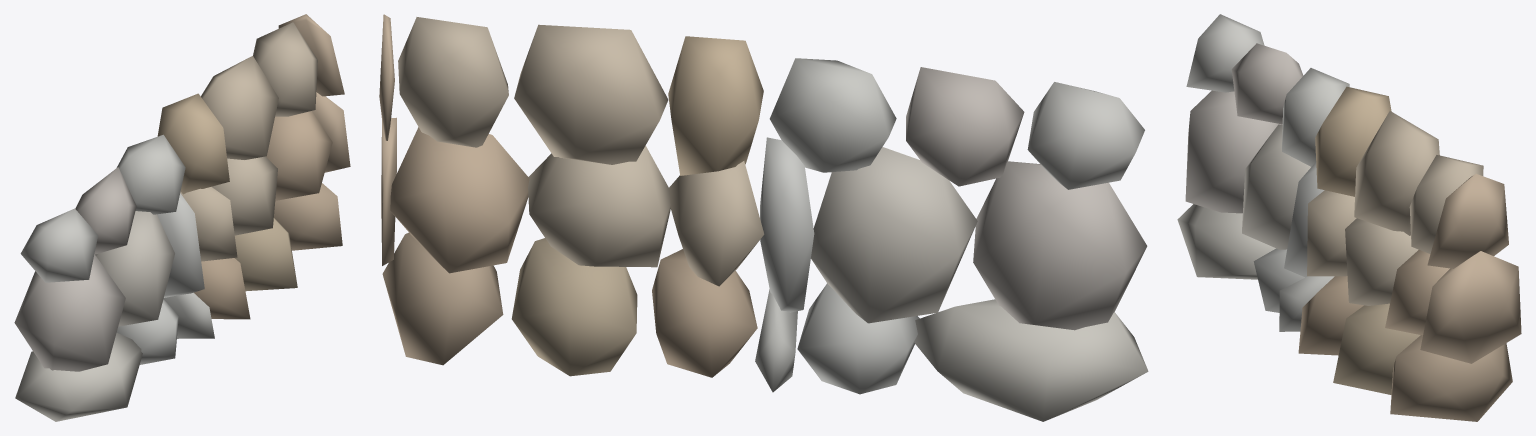
File: farm_-32_-37_near.glb
3 renders of one model, left to right at view 1: azimuth 30°, elevation 25°; view 2: azimuth 150°, elevation 25°; view 3: azimuth 270°, elevation 25°, orthographic. The views are drawn at different scales.
Visible parts, largest first — view 1: geometry_0; view 2: geometry_0; view 3: geometry_0.
Part boxes in pixels (x1,y1,x2,y2): geometry_0: [14, 14, 350, 421]; geometry_0: [379, 14, 1148, 421]; geometry_0: [1177, 14, 1521, 421].
Size of the model in its own units: 2.99 by 1.67 by 1.83.
